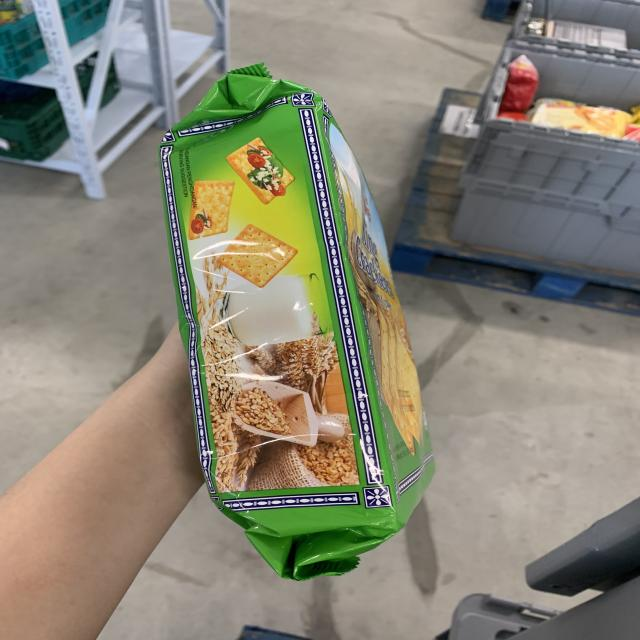object_name: (165, 99, 400, 525)
